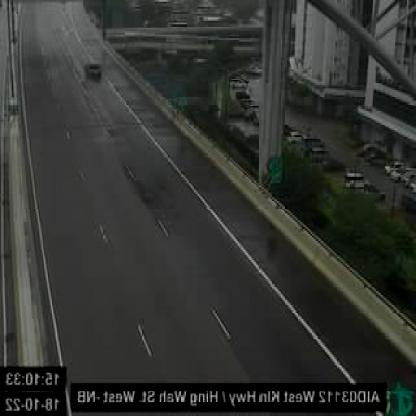Car: (84, 59, 103, 82)
